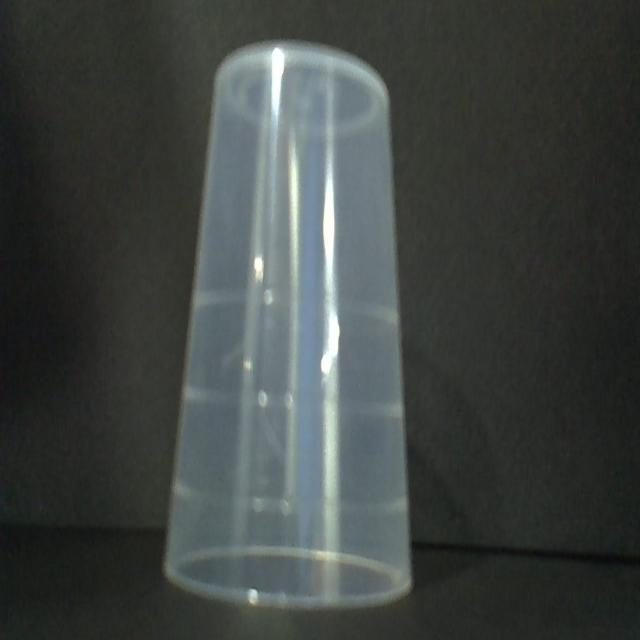cup: (160, 32, 420, 613)
